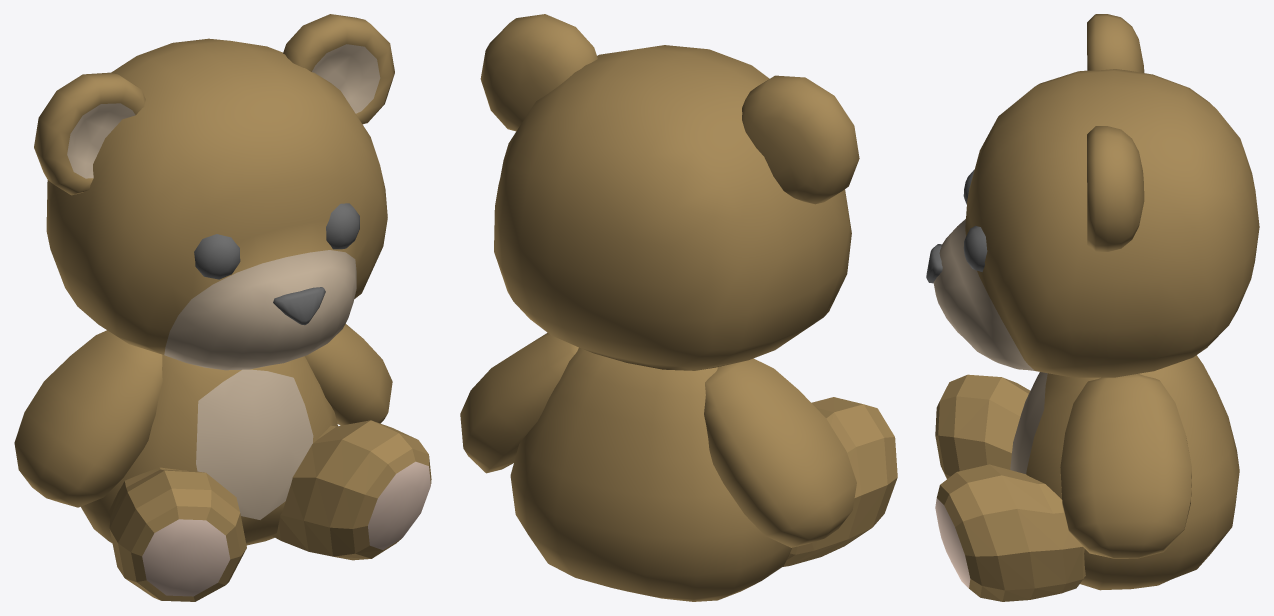
File: Bear.fbx
The picture shows the model from 3 angles, left to right: view 1: azimuth 30°, elevation 25°; view 2: azimuth 150°, elevation 25°; view 3: azimuth 270°, elevation 25°; orthographic projection. The views are drawn at different scales.
Parts seen in each view (by area): view 1: head11, arm22, leg6, ear1, head12, body33, body34, leg7, eye3, eye, nose; view 2: head11, body34, arm22, ear1, leg6; view 3: head11, leg6, arm22, body34, ear1, head12, body33, leg7, eye, nose.
Boxes of the visible parts, x1=… form: head11: x1=46, y1=38, x2=387, y2=354; arm22: x1=14, y1=324, x2=392, y2=507; leg6: x1=109, y1=420, x2=431, y2=601; ear1: x1=34, y1=14, x2=394, y2=195; head12: x1=164, y1=250, x2=356, y2=370; body33: x1=196, y1=369, x2=313, y2=519; body34: x1=81, y1=354, x2=337, y2=545; leg7: x1=142, y1=461, x2=430, y2=596; eye3: x1=194, y1=234, x2=240, y2=279; eye: x1=326, y1=203, x2=359, y2=249; nose: x1=273, y1=287, x2=325, y2=325; head11: x1=494, y1=45, x2=851, y2=370; body34: x1=510, y1=347, x2=791, y2=601; arm22: x1=460, y1=332, x2=856, y2=547; ear1: x1=480, y1=14, x2=859, y2=204; leg6: x1=783, y1=397, x2=897, y2=566; head11: x1=965, y1=69, x2=1259, y2=377; leg6: x1=935, y1=374, x2=1085, y2=601; arm22: x1=1060, y1=373, x2=1191, y2=558; body34: x1=1026, y1=355, x2=1239, y2=590; ear1: x1=1087, y1=14, x2=1144, y2=252; head12: x1=933, y1=219, x2=1034, y2=370; body33: x1=1010, y1=372, x2=1047, y2=473; leg7: x1=935, y1=498, x2=970, y2=588; eye: x1=963, y1=225, x2=987, y2=271; nose: x1=926, y1=244, x2=942, y2=283.
Bounding box in the file's own units: 66.4 × 89.36 × 55.93.
